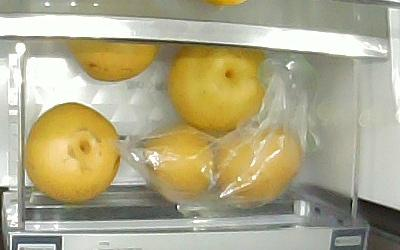pear: (24, 102, 122, 204), (166, 46, 271, 133), (64, 38, 160, 84)
pear_vinyl: (217, 128, 301, 203), (144, 127, 217, 206)
